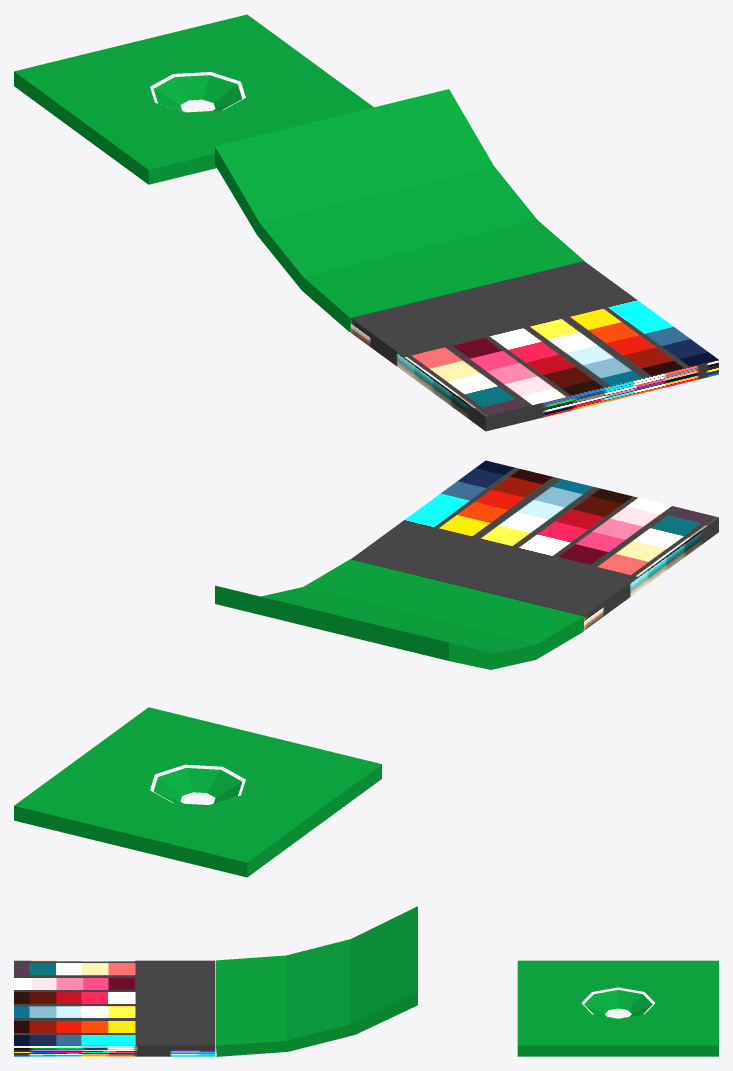
File: Floor.glb
3 views of the same model, one above another, from view 1: azimuth 30°, elevation 25°; view 2: azimuth 150°, elevation 25°; view 3: azimuth 270°, elevation 25° (orthographic). The views are drawn at different scales.
Visible parts, largest first — view 1: unified_floor; view 2: unified_floor; view 3: unified_floor.
Part boxes in pixels (x1,y1,x2,y2): unified_floor: (14, 14, 718, 431); unified_floor: (14, 460, 718, 877); unified_floor: (14, 906, 718, 1056).
Bounding box in the file's own units: 4.02 × 1.44 × 14.01.
Materials: 3 (3 with a texture image).
